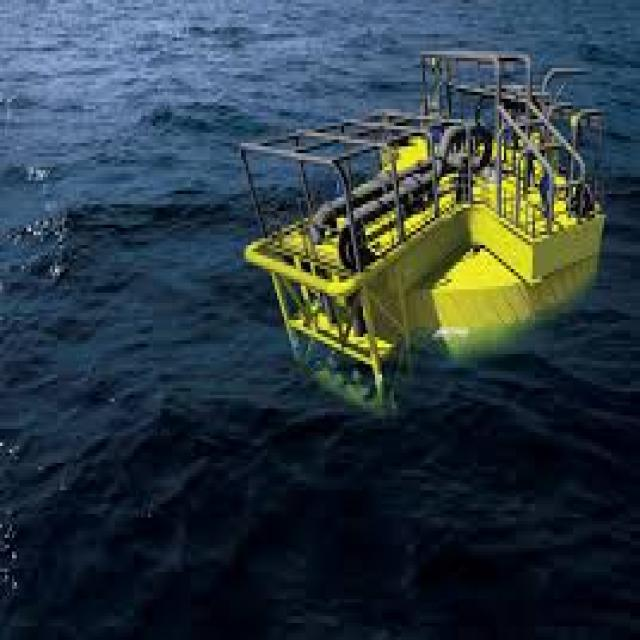marque: (230, 22, 615, 419)
